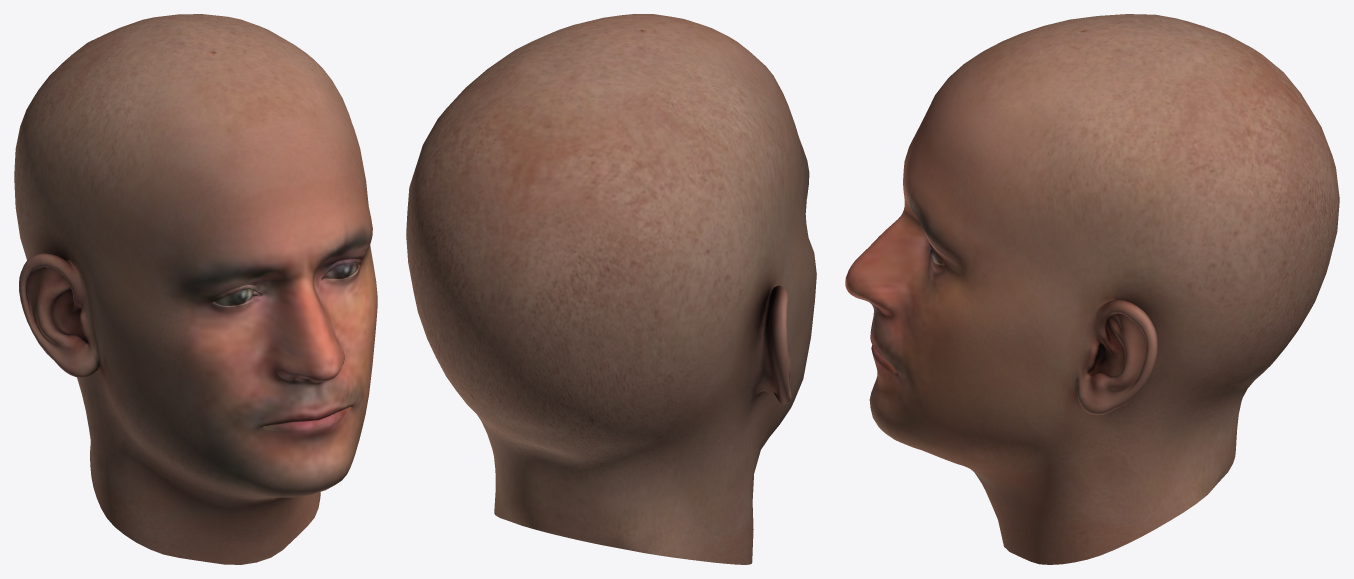
The model's file is Jango Fett Head.fbx.
3 renders of one model, left to right at view 1: azimuth 30°, elevation 25°; view 2: azimuth 150°, elevation 25°; view 3: azimuth 270°, elevation 25°, orthographic. The views are drawn at different scales.
Visible parts, largest first — view 1: Head; view 2: Head; view 3: Head.
Boxes of the visible parts, box(x1,y1,x2,y2) form: Head: box(14, 14, 377, 564); Head: box(406, 14, 816, 564); Head: box(845, 14, 1339, 564).
Size of the model in its own units: 0.1876 by 0.2612 by 0.2297.
